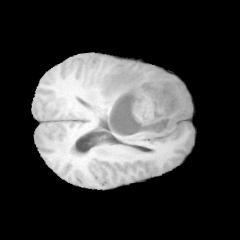glioma: (99, 63, 187, 140)
